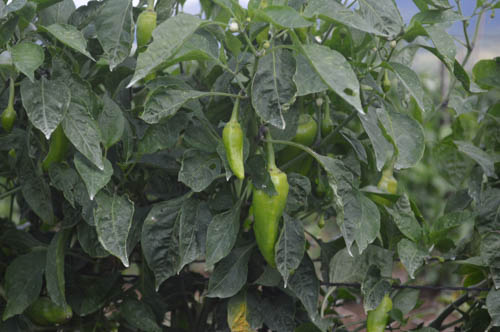ChiliPepper: (246, 174, 284, 268), (221, 120, 243, 182), (286, 122, 315, 167), (135, 13, 156, 49), (365, 299, 391, 327)
